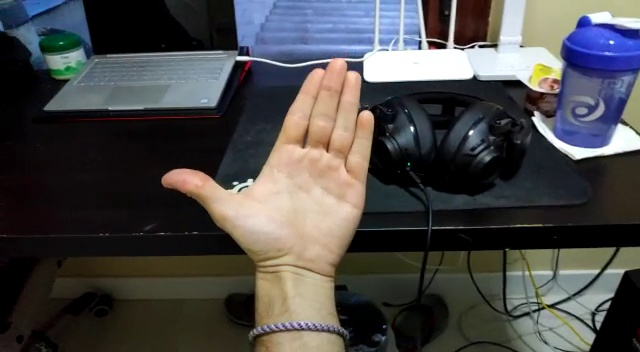Palm: (161, 56, 383, 276)
